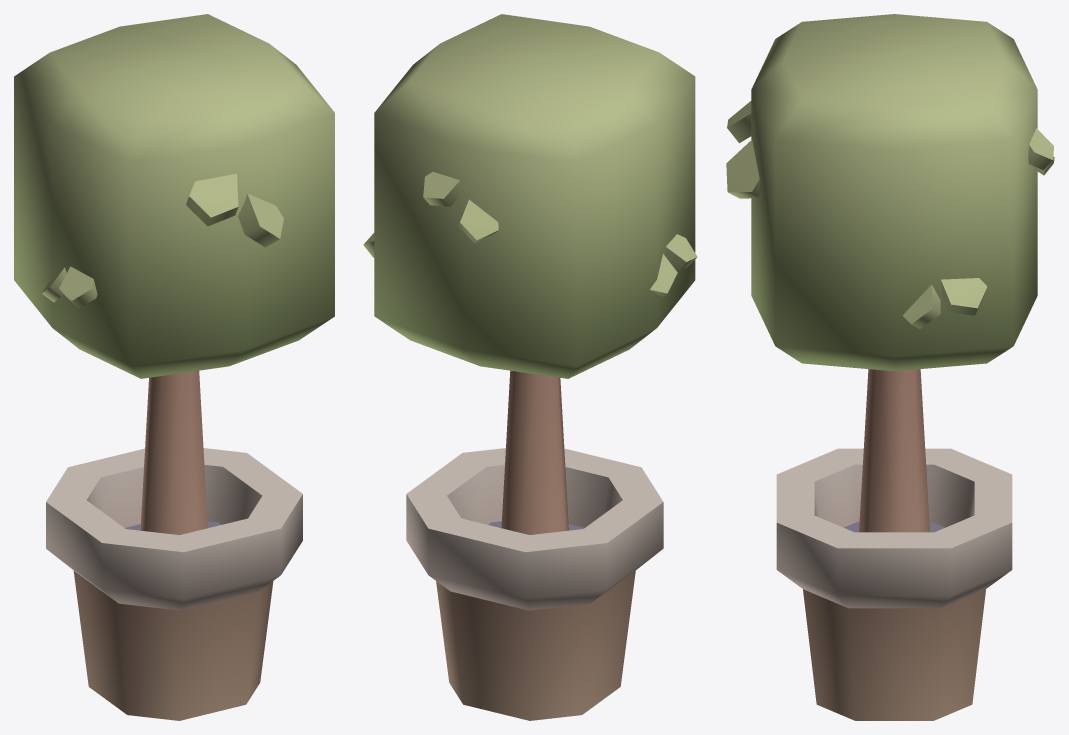
The model's file is plant-topiary-square.glb.
The picture shows the model from 3 angles, left to right: view 1: azimuth 30°, elevation 25°; view 2: azimuth 150°, elevation 25°; view 3: azimuth 270°, elevation 25°; orthographic projection.
Visible parts, largest first — view 1: plant-topiary-square; view 2: plant-topiary-square; view 3: plant-topiary-square.
Part boxes in pixels (x1,y1,x2,y2): plant-topiary-square: (14,14,334,720); plant-topiary-square: (363,14,697,720); plant-topiary-square: (726,14,1054,720).
Bounding box in the file's own units: 0.2969 × 0.6617 × 0.314.
